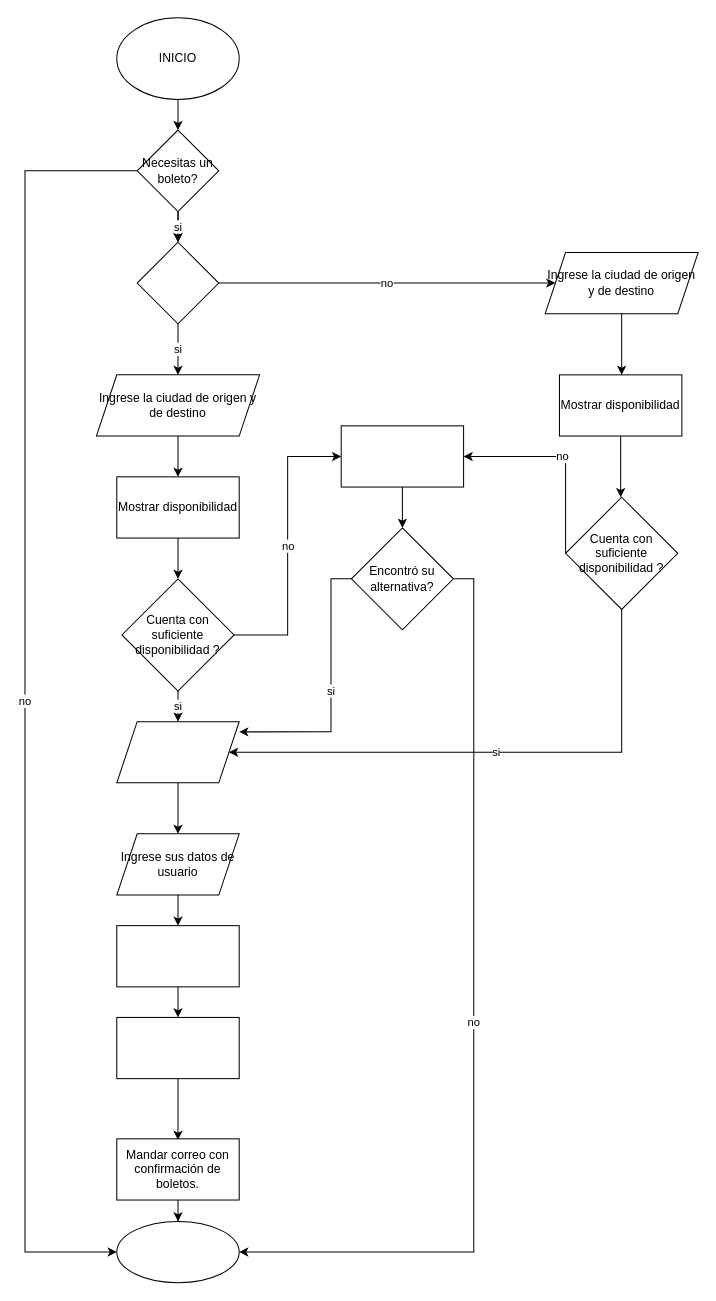
Some shapes in this 716 by 1301 pixel diagram are drawn without their labels. Here are the shapes that lost their labels. From the top down, the box of each, then its label:
(136, 241, 219, 324): Es de avión?
(340, 425, 464, 487): mostrar alternativas
(116, 721, 239, 783): Seleccione sus boletos en la fecha y hora que necesite
(116, 925, 239, 987): Proceder al pago / capturar el pago
(116, 1016, 239, 1079): Asignar asientos en el transporte.
(116, 1220, 239, 1283): fin
